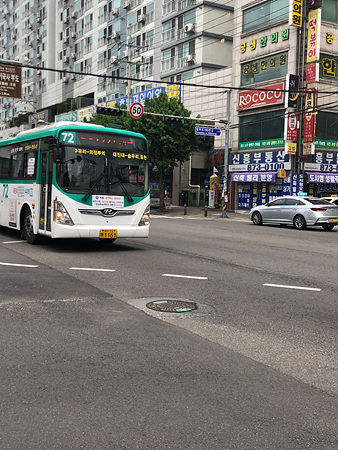bnum: (60, 129, 75, 144)
